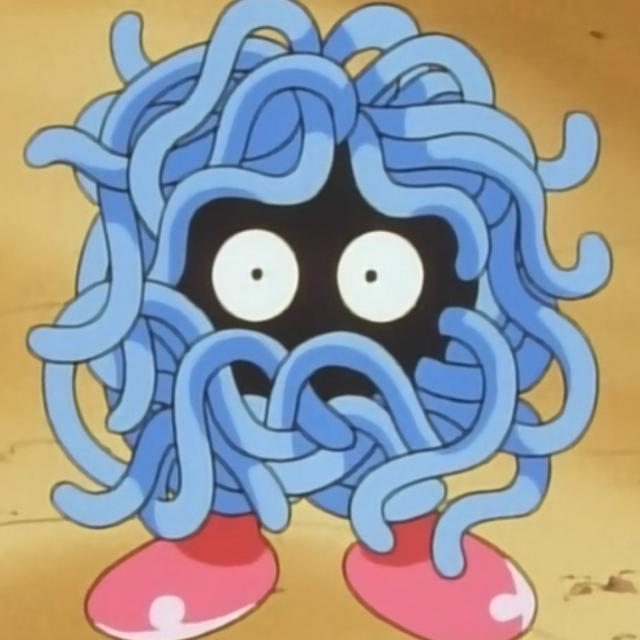Tangela: (65, 37, 549, 640)
